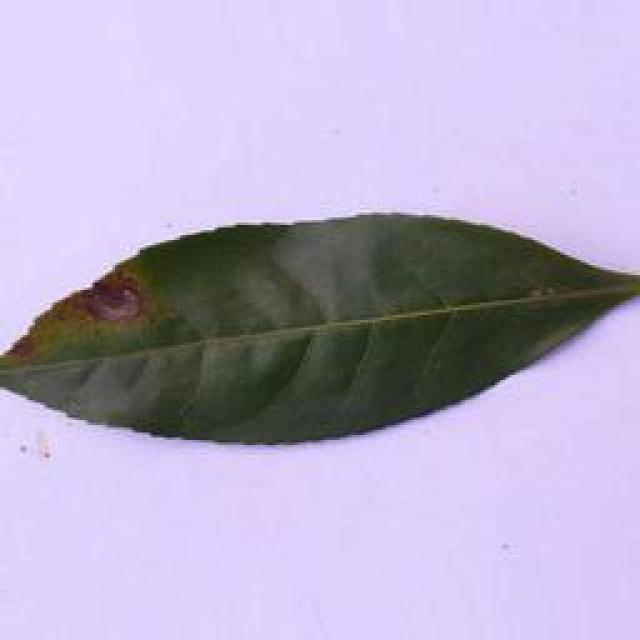Gray Blight: (0, 197, 640, 446)
